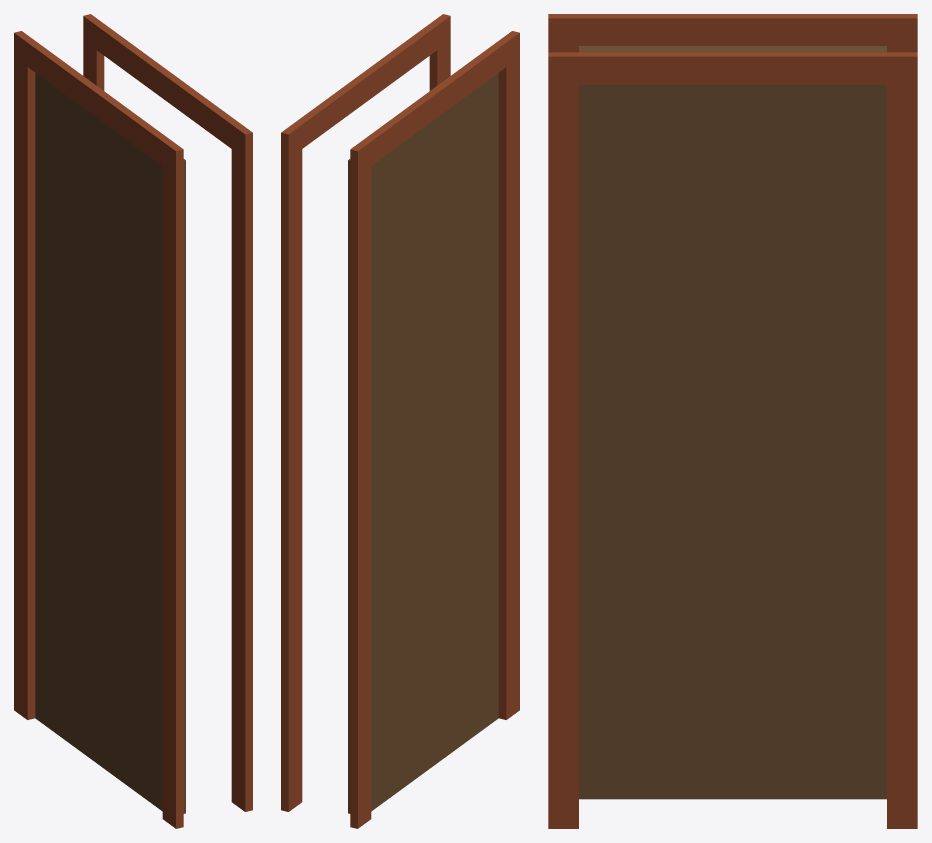
The model's file is 3X414Lh312cfMiVfxwG2BB.dae.
The picture shows the model from 3 angles, left to right: view 1: azimuth 30°, elevation 25°; view 2: azimuth 150°, elevation 25°; view 3: azimuth 270°, elevation 25°; orthographic projection. The views are drawn at different scales.
Parts seen in each view (by area): view 1: product-e1101115-ac30-429a-95ac-7e9efa4022cb-body; view 2: product-e1101115-ac30-429a-95ac-7e9efa4022cb-body; view 3: product-e1101115-ac30-429a-95ac-7e9efa4022cb-body.
Part boxes in pixels (x1,y1,x2,y2): product-e1101115-ac30-429a-95ac-7e9efa4022cb-body: (14, 14, 252, 828); product-e1101115-ac30-429a-95ac-7e9efa4022cb-body: (281, 14, 519, 828); product-e1101115-ac30-429a-95ac-7e9efa4022cb-body: (548, 14, 917, 828).
Bounding box in the file's own units: 0.25 × 0.914 × 2.11.
